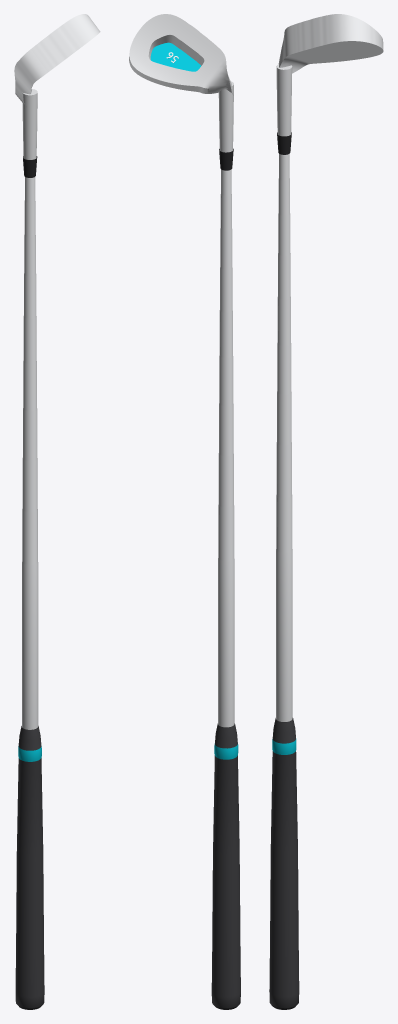
File: Club_wedge_sw.fbx
The picture shows the model from 3 angles, left to right: view 1: azimuth 30°, elevation 25°; view 2: azimuth 150°, elevation 25°; view 3: azimuth 330°, elevation 25°; orthographic projection. The views are drawn at different scales.
Parts seen in each view (by area): view 1: Club_wedge_sw; view 2: Club_wedge_sw; view 3: Club_wedge_sw.
Part boxes in pixels (x1,y1,x2,y2): Club_wedge_sw: (14,14,100,1009); Club_wedge_sw: (129,14,240,1009); Club_wedge_sw: (269,14,383,1009).
Bounding box in the file's own units: 0.0933 × 0.9431 × 0.0571.
